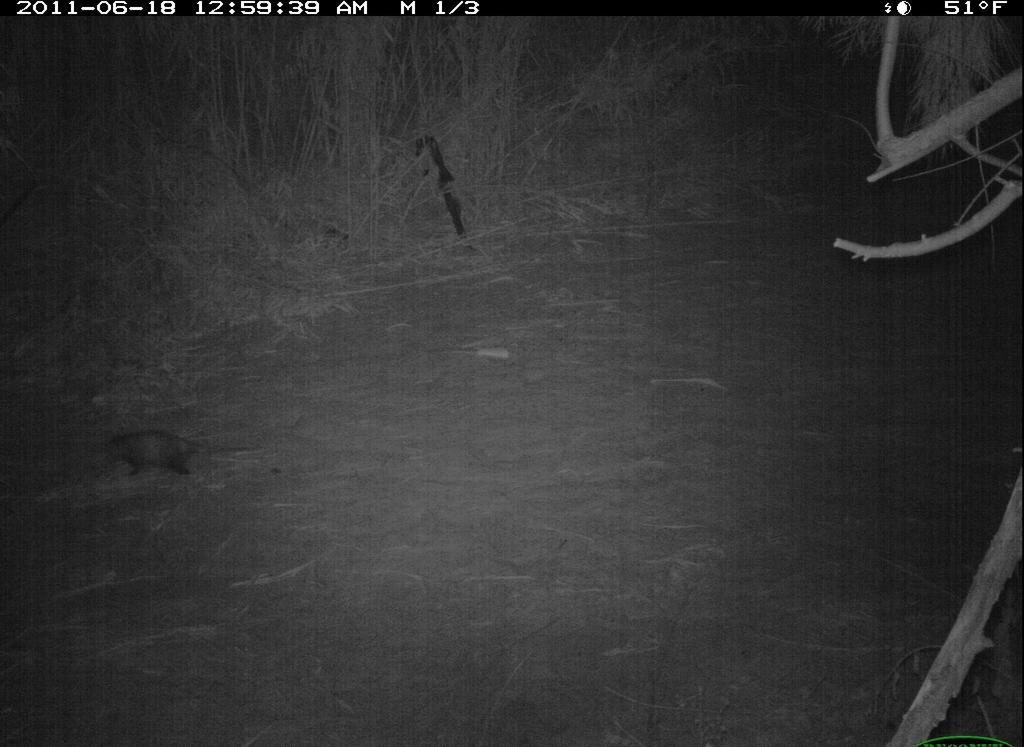opossum: (99, 424, 217, 482)
